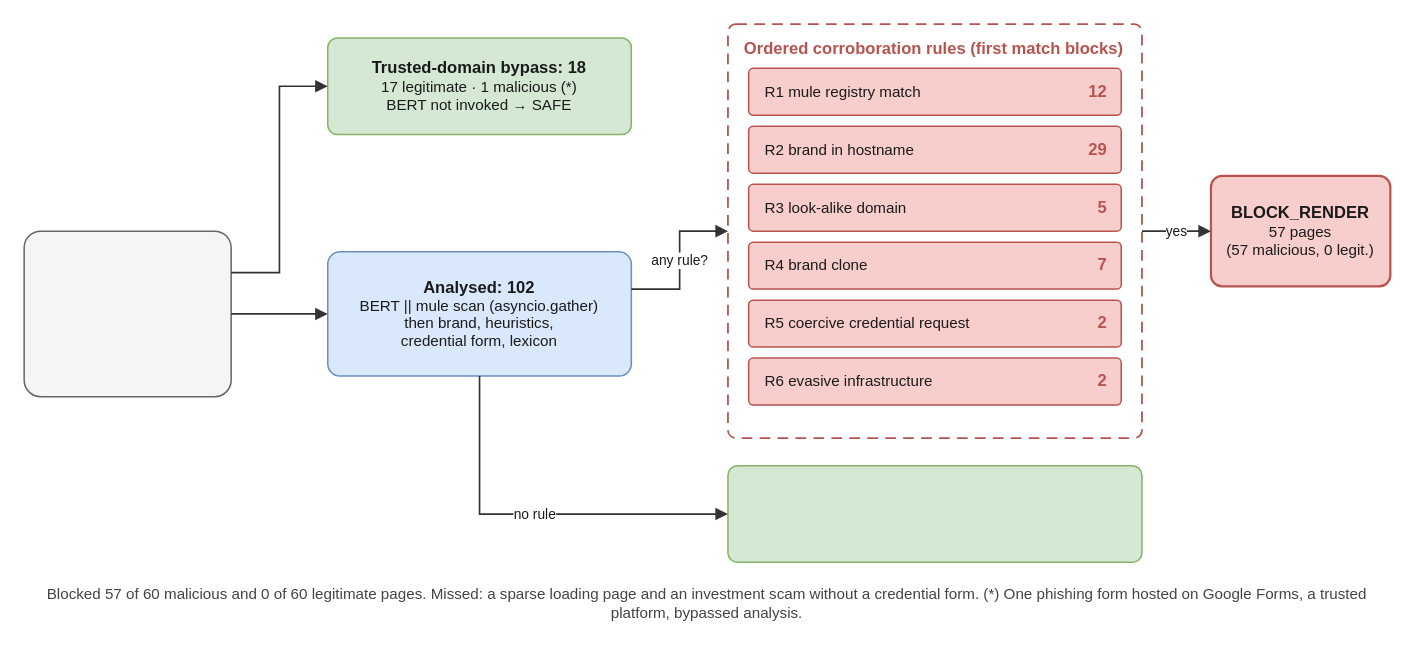
Some shapes in this 1416 by 656 pixel diagram are drawn without their labels. The shapes that lost their labels are listed below. From the top down, each one's centre as x and y in pixels, then its label:
At point 127,313: "120 benchmark pages 60 legitimate 60 malicious".
At point 934,513: "SAFE, no rule satisfied: 45 43 legitimate · 2 malicious missed".
